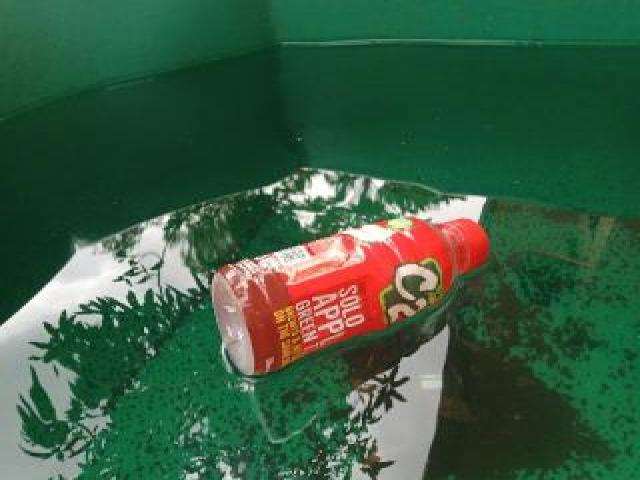Bottle: (212, 216, 493, 378)
